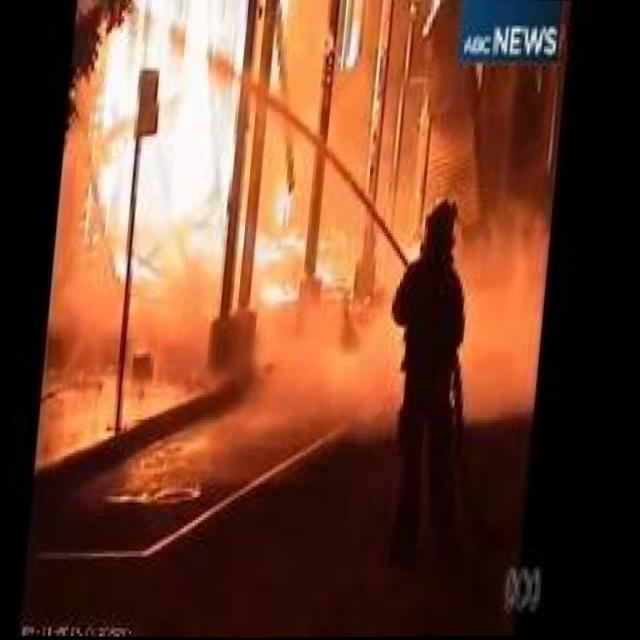fire: (78, 0, 374, 331)
